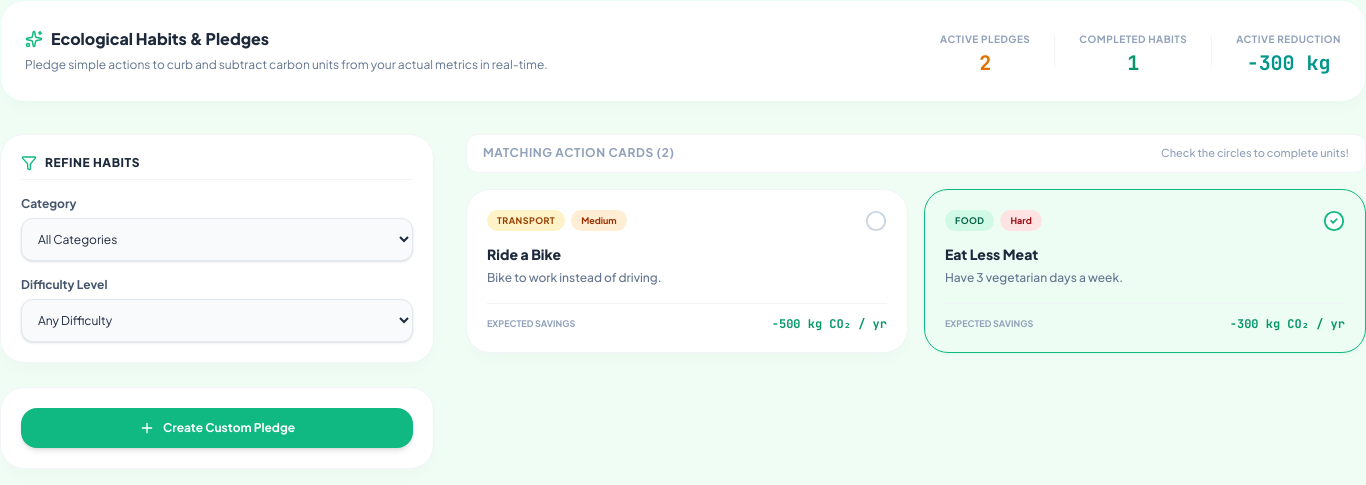
it: ActionRoadmap › filters pledges by category
Select "Transport" in the dropdown labelled "Category" at [217, 240], box [21,218,413,261]
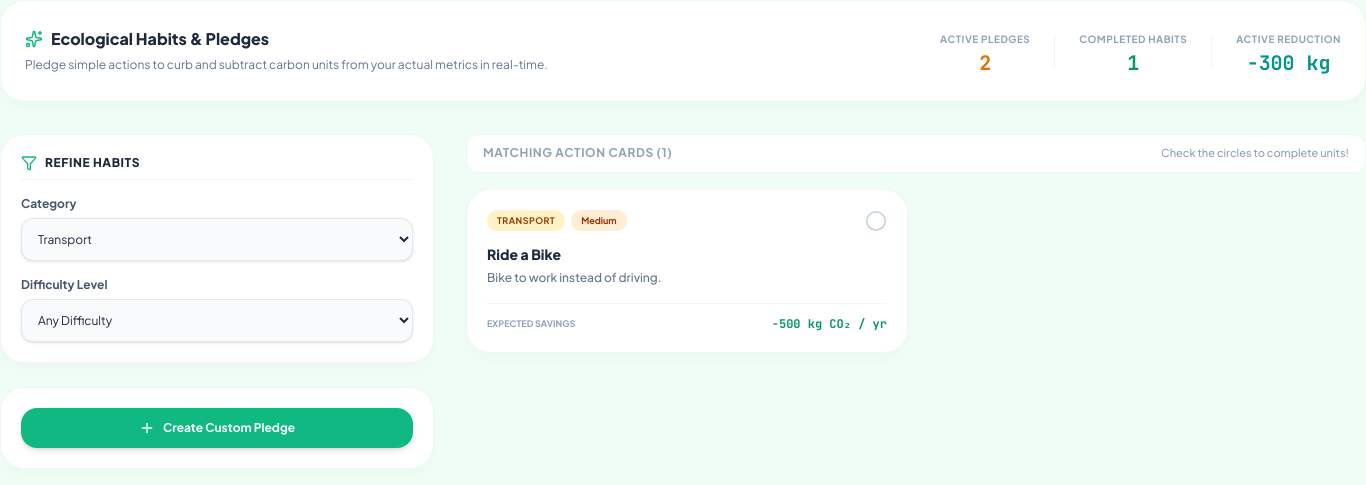
Expected: the heading "Ride a Bike" is shown, [487,244,561,262]
Expected: the heading "Eat Less Meat" is gone
